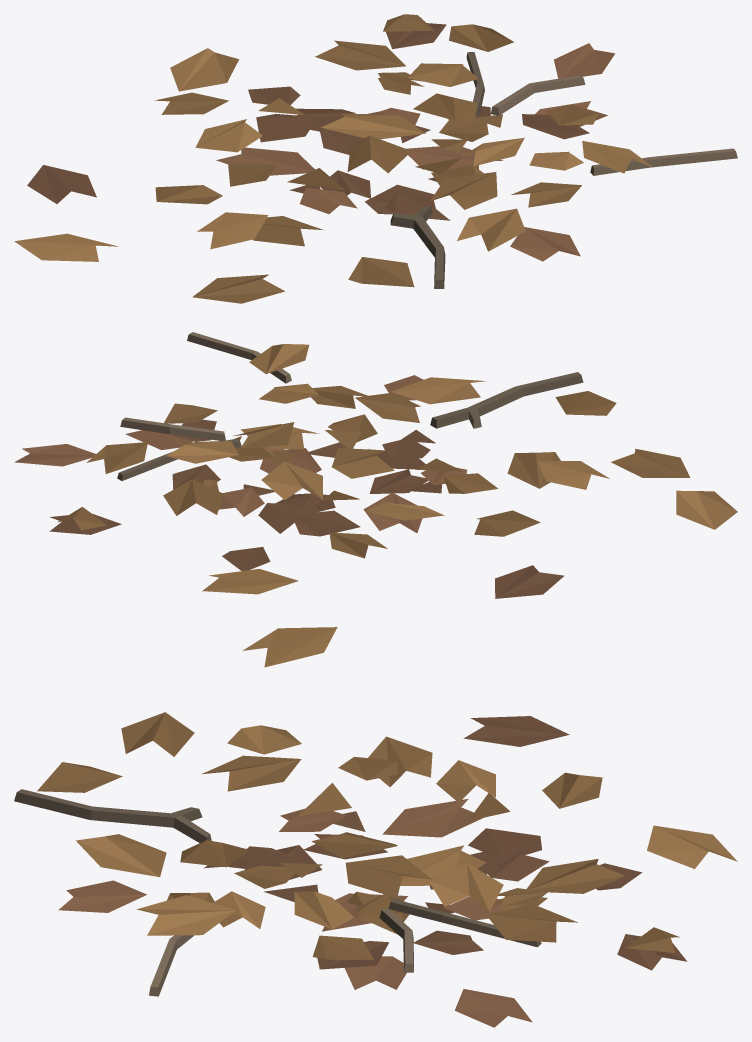
File: piles_of_leafs.glb
The picture shows the model from 3 angles, top to bottom: view 1: azimuth 30°, elevation 25°; view 2: azimuth 150°, elevation 25°; view 3: azimuth 270°, elevation 25°; orthographic projection. The views are drawn at different scales.
Parts seen in each view (by area): view 1: SM_Prop_Leaves_Pile_02; view 2: SM_Prop_Leaves_Pile_02; view 3: SM_Prop_Leaves_Pile_02.
Boxes of the visible parts, box(x1,y1,x2,y2) form: SM_Prop_Leaves_Pile_02: box(14, 14, 737, 303); SM_Prop_Leaves_Pile_02: box(14, 332, 737, 598); SM_Prop_Leaves_Pile_02: box(14, 627, 737, 1027).
Bounding box in the file's own units: 1.51 × 0.104 × 1.24.
1 material, 1 textured.
